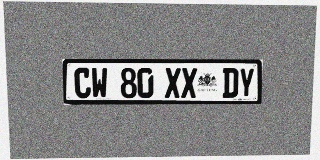0: (137, 68, 153, 98)
8: (120, 68, 137, 98)
C: (74, 68, 91, 98)
D: (222, 68, 238, 98)
W: (91, 68, 108, 98)
X: (165, 68, 181, 98), (181, 68, 197, 98)
Y: (238, 68, 255, 98)
